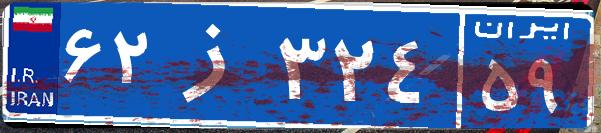2: (330, 28, 385, 110), (110, 28, 158, 105)
3: (273, 28, 330, 110)
4: (385, 28, 445, 110)
5: (475, 38, 525, 113)
6: (57, 26, 110, 107)
9: (525, 38, 570, 115)
ز: (158, 15, 273, 115)
